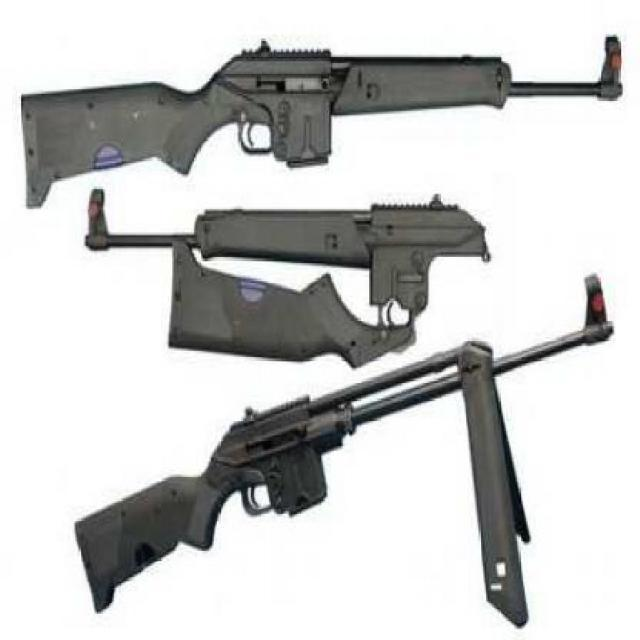weapon: (79, 282, 606, 634), (17, 22, 634, 215), (95, 188, 487, 304)
